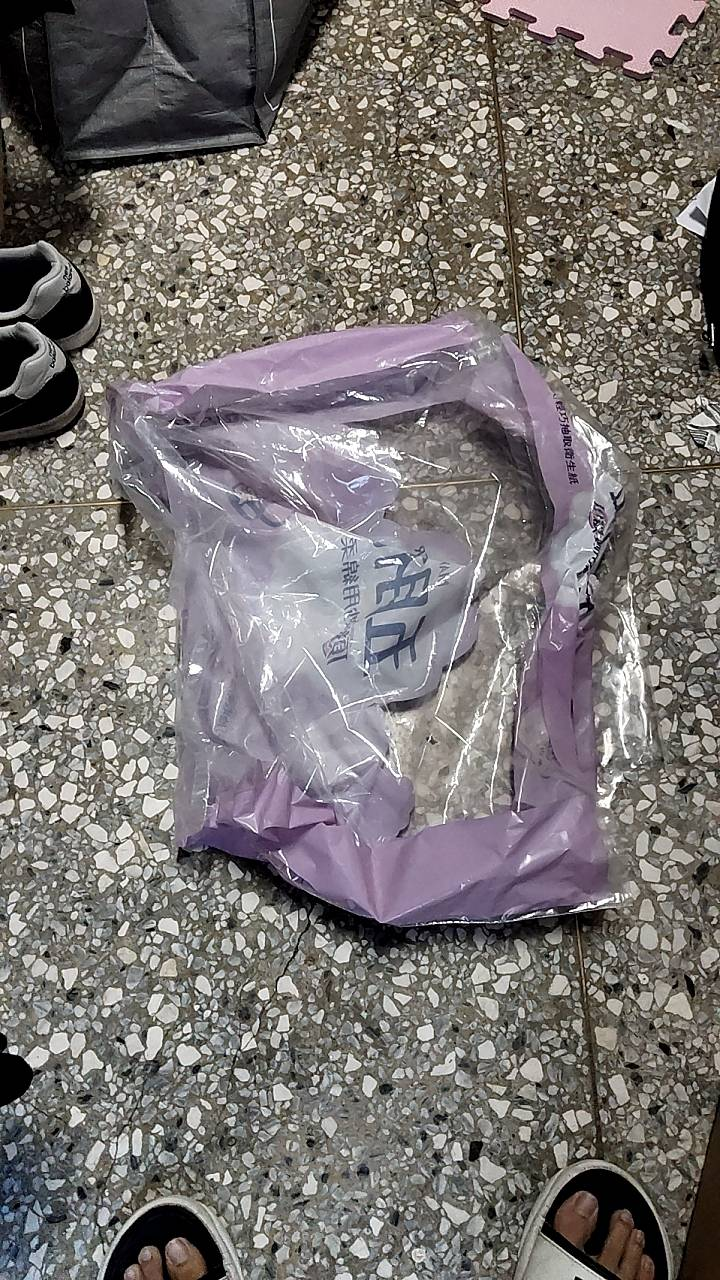General waste: (62, 280, 668, 978)
